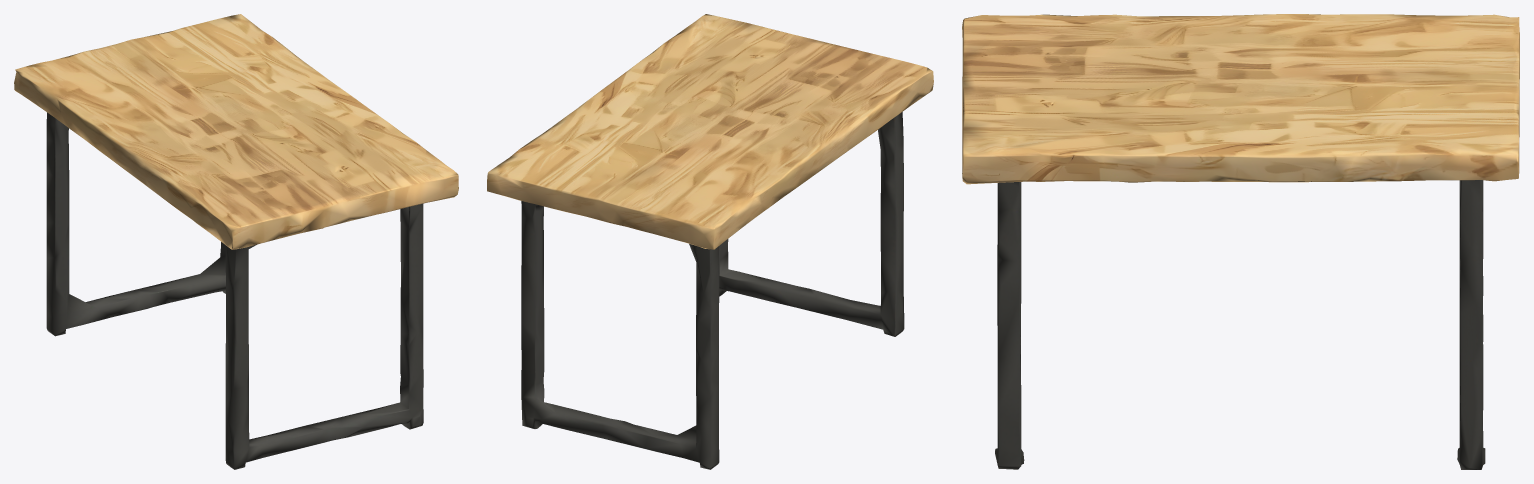
Rendered from desk2b.glb.
The picture shows the model from 3 angles, left to right: view 1: azimuth 30°, elevation 25°; view 2: azimuth 150°, elevation 25°; view 3: azimuth 270°, elevation 25°; orthographic projection. The views are drawn at different scales.
Parts seen in each view (by area): view 1: tripo_node_ef7b86bb-7805-4185-8651-1d0d43125781; view 2: tripo_node_ef7b86bb-7805-4185-8651-1d0d43125781; view 3: tripo_node_ef7b86bb-7805-4185-8651-1d0d43125781.
Part boxes in pixels (x1=…): tripo_node_ef7b86bb-7805-4185-8651-1d0d43125781: x1=14, y1=14, x2=458, y2=469; tripo_node_ef7b86bb-7805-4185-8651-1d0d43125781: x1=487, y1=14, x2=933, y2=469; tripo_node_ef7b86bb-7805-4185-8651-1d0d43125781: x1=962, y1=14, x2=1519, y2=469.
Bounding box in the file's own units: 0.5983 × 0.6572 × 1.
1 material, 1 textured.
